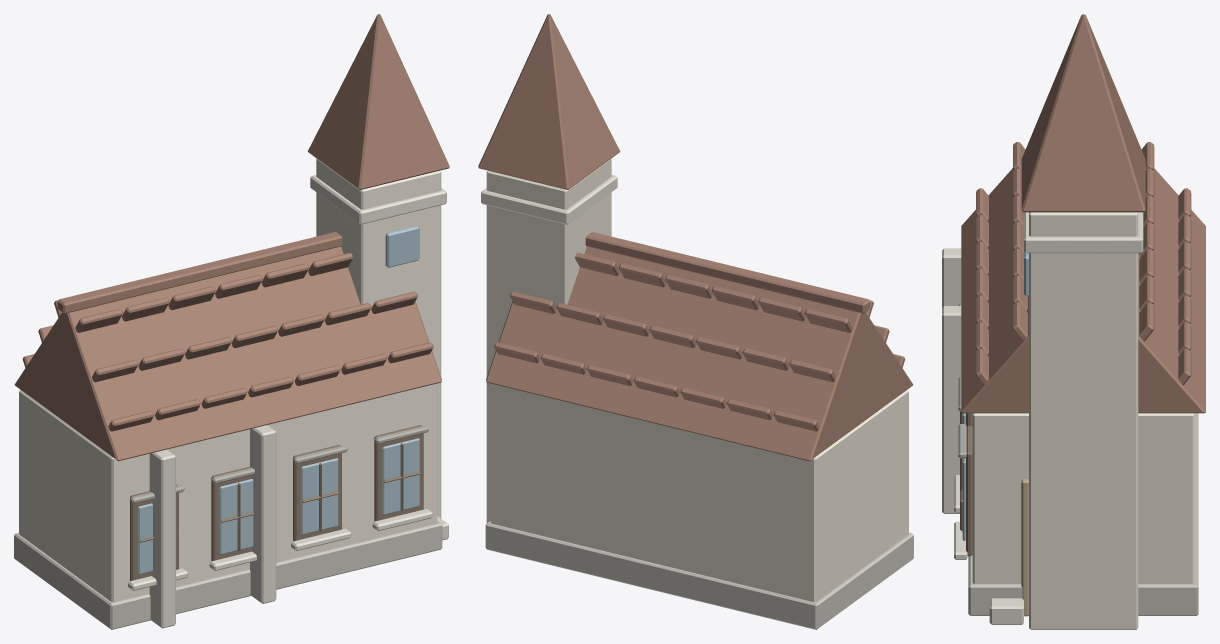
Rendered from church_a.glb.
3 views of the same model, side by side, from view 1: azimuth 30°, elevation 25°; view 2: azimuth 150°, elevation 25°; view 3: azimuth 270°, elevation 25° (orthographic). The views are drawn at different scales.
Visible parts, largest first — view 1: roof, nave, spire, tower, skirt, ridge, buttress.001, buttress, wglass.003, wglass.002, wglass.001, tower_band (+14 smaller); view 2: nave, roof, tower, spire, skirt, ridge, tower_band, shingle.036, shingle.037, shingle.039, shingle.035, shingle.038 (+1 smaller); view 3: tower, roof, nave, spire, skirt, buttress.001, tower_band, buttress, door, step, wframe.003, shingle.034 (+8 smaller).
Boxes of the visible parts, bbox=[...] form: roof: bbox=[14, 246, 441, 461]; nave: bbox=[19, 383, 437, 602]; spire: bbox=[307, 14, 449, 189]; tower: bbox=[316, 158, 441, 518]; skirt: bbox=[14, 521, 442, 629]; ridge: bbox=[57, 232, 342, 313]; buttress.001: bbox=[250, 425, 276, 603]; buttress: bbox=[149, 449, 175, 628]; wglass.003: bbox=[382, 438, 419, 514]; wglass.002: bbox=[301, 458, 338, 534]; wglass.001: bbox=[219, 479, 253, 554]; tower_band: bbox=[310, 175, 446, 224]; nave: bbox=[490, 383, 908, 602]; roof: bbox=[486, 246, 913, 461]; tower: bbox=[486, 158, 611, 522]; spire: bbox=[478, 14, 620, 189]; skirt: bbox=[485, 521, 913, 629]; ridge: bbox=[585, 232, 870, 313]; tower_band: bbox=[481, 175, 617, 224]; shingle.036: bbox=[758, 297, 805, 321]; shingle.037: bbox=[711, 286, 759, 310]; shingle.039: bbox=[618, 263, 666, 287]; shingle.035: bbox=[805, 309, 852, 332]; shingle.038: bbox=[665, 275, 712, 298]; tower: bbox=[1029, 212, 1138, 629]; roof: bbox=[961, 168, 1205, 413]; nave: bbox=[972, 413, 1194, 583]; spire: bbox=[1021, 14, 1145, 212]; skirt: bbox=[968, 413, 1198, 615]; buttress.001: bbox=[942, 306, 961, 513]; tower_band: bbox=[1024, 212, 1143, 253]; buttress: bbox=[942, 248, 961, 307]; door: bbox=[1021, 479, 1028, 616]; step: bbox=[989, 598, 1023, 624]; wframe.003: bbox=[966, 426, 972, 556]; shingle.034: bbox=[1139, 302, 1154, 341].
Size of the model in its own units: 2.9 by 3.84 by 1.55.
